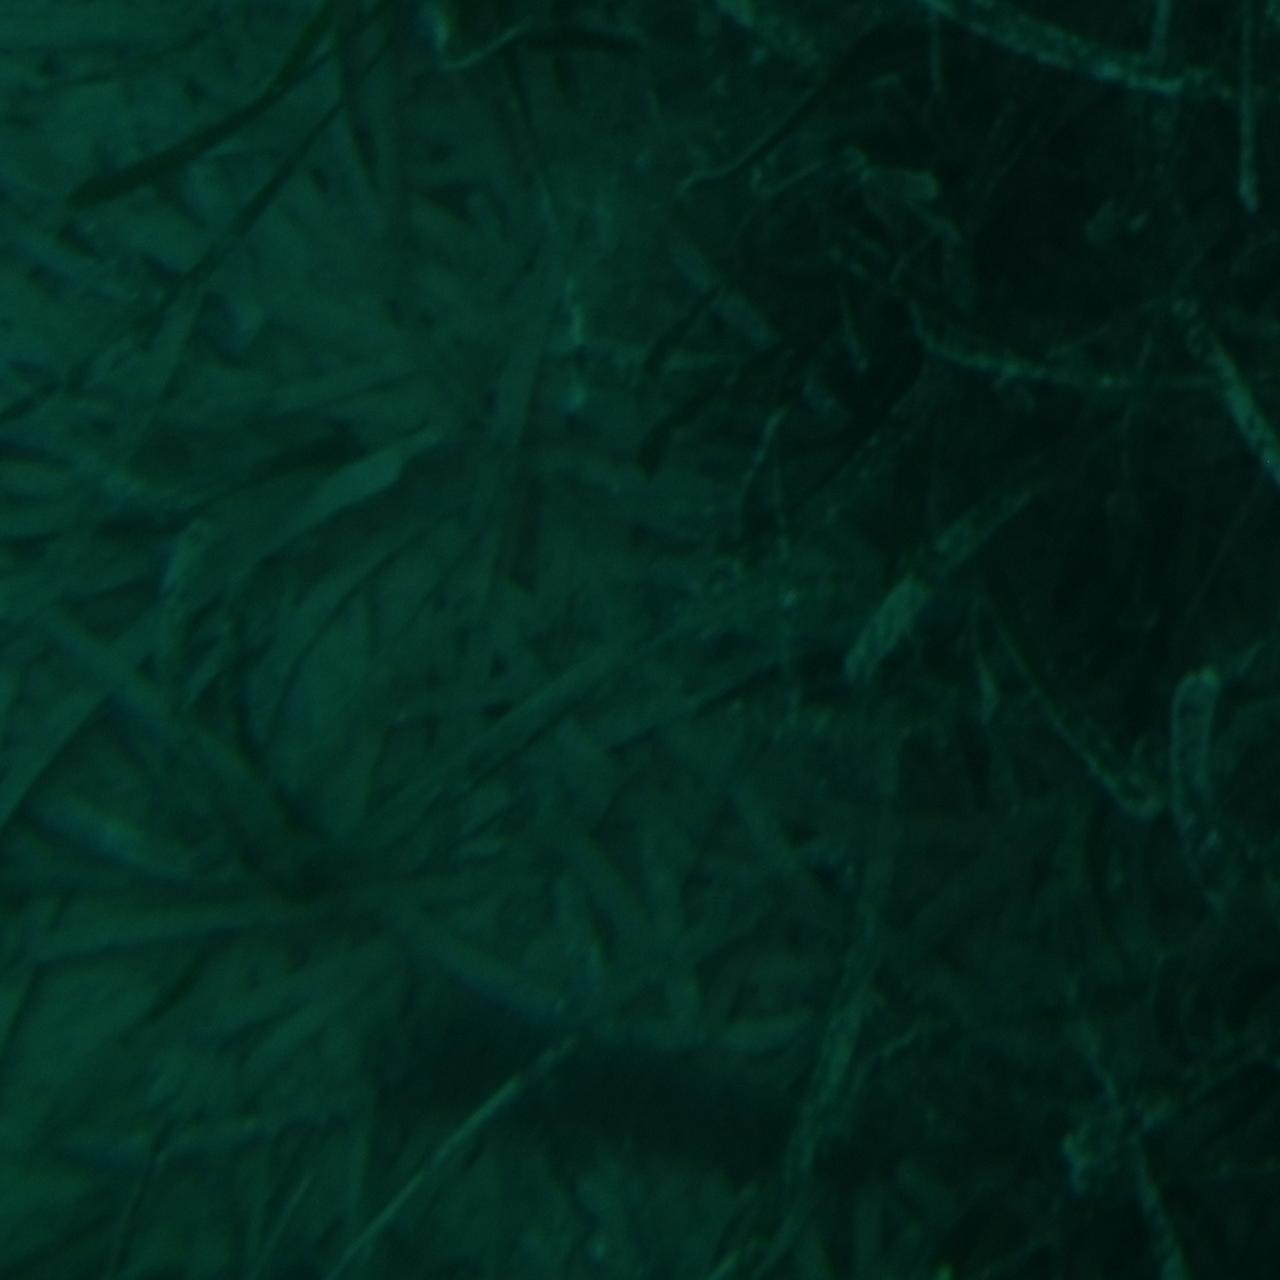Holothuria tubulosa: (382, 946, 898, 1198)
